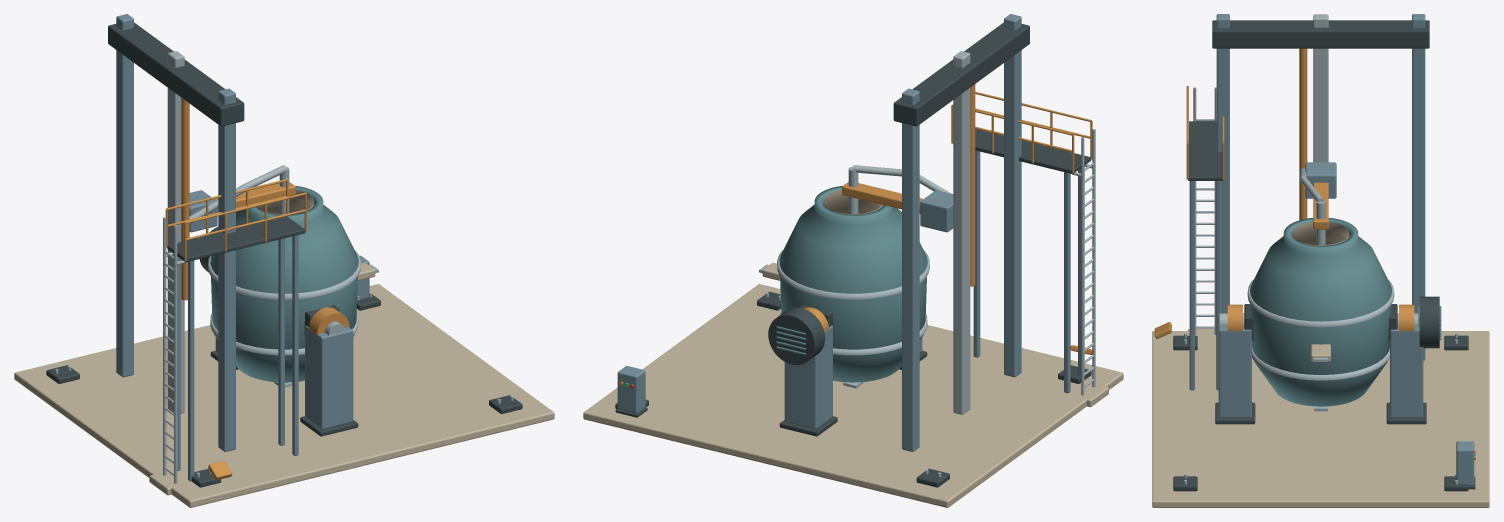
Rendered from BOF-A-lod0.glb.
3 renders of one model, left to right at view 1: azimuth 30°, elevation 25°; view 2: azimuth 150°, elevation 25°; view 3: azimuth 270°, elevation 25°, orthographic. The views are drawn at different scales.
Parts seen in each view (by area): view 1: foundation, refractory_vessel, lance_tower_-2.2, lance_tower_2.2, lance_crosshead, far_pedestal, lance_linear_guide, lance_service_deck, lance_service_support_1_1, lance_service_support_-1_1, oxygen_supply_trunk, lance_service_support_1_-1 (+8 smaller); view 2: foundation, refractory_vessel, lance_tower_-2.2, lance_linear_guide, lance_tower_2.2, lance_crosshead, near_pedestal, tilt_gearbox, lance_service_deck, lance_service_support_-1_-1, lance_service_support_1_1, lance_carriage (+9 smaller); view 3: foundation, refractory_vessel, lance_crosshead, lance_tower_-2.2, far_pedestal, lance_tower_2.2, near_pedestal, lance_linear_guide, lance_service_deck, oxygen_supply_trunk, lance_service_support_1_1, tilt_gearbox (+13 smaller).
Part boxes in pixels (x1,y1,x2,y2): foundation: [14, 284, 554, 507]; refractory_vessel: [210, 185, 358, 382]; lance_tower_-2.2: [116, 14, 133, 377]; lance_tower_2.2: [218, 88, 235, 451]; lance_crosshead: [108, 22, 244, 126]; far_pedestal: [305, 325, 353, 429]; lance_linear_guide: [167, 51, 184, 413]; lance_service_deck: [167, 216, 305, 262]; lance_service_support_1_1: [292, 235, 298, 455]; lance_service_support_-1_1: [188, 260, 194, 481]; oxygen_supply_trunk: [181, 98, 189, 300]; lance_service_support_1_-1: [278, 238, 284, 445]; foundation: [583, 284, 1123, 507]; refractory_vessel: [779, 185, 927, 382]; lance_tower_-2.2: [902, 88, 919, 451]; lance_linear_guide: [953, 51, 970, 414]; lance_tower_2.2: [1004, 14, 1021, 377]; lance_crosshead: [893, 22, 1029, 126]; near_pedestal: [784, 325, 832, 429]; tilt_gearbox: [768, 307, 825, 364]; lance_service_deck: [975, 129, 1091, 173]; lance_service_support_-1_-1: [1064, 172, 1070, 393]; lance_service_support_1_1: [973, 150, 980, 357]; lance_carriage: [920, 190, 953, 232]; foundation: [1152, 331, 1489, 507]; refractory_vessel: [1250, 218, 1391, 406]; lance_crosshead: [1212, 20, 1429, 48]; lance_tower_-2.2: [1412, 14, 1425, 360]; far_pedestal: [1218, 316, 1251, 417]; lance_tower_2.2: [1216, 14, 1229, 313]; near_pedestal: [1390, 326, 1423, 417]; lance_linear_guide: [1313, 14, 1328, 162]; lance_service_deck: [1188, 121, 1222, 180]; oxygen_supply_trunk: [1299, 48, 1307, 220]; lance_service_support_1_1: [1189, 181, 1194, 390]; tilt_gearbox: [1419, 296, 1439, 348].
Size of the model in its own units: 9.2 by 8.87 by 7.6.
